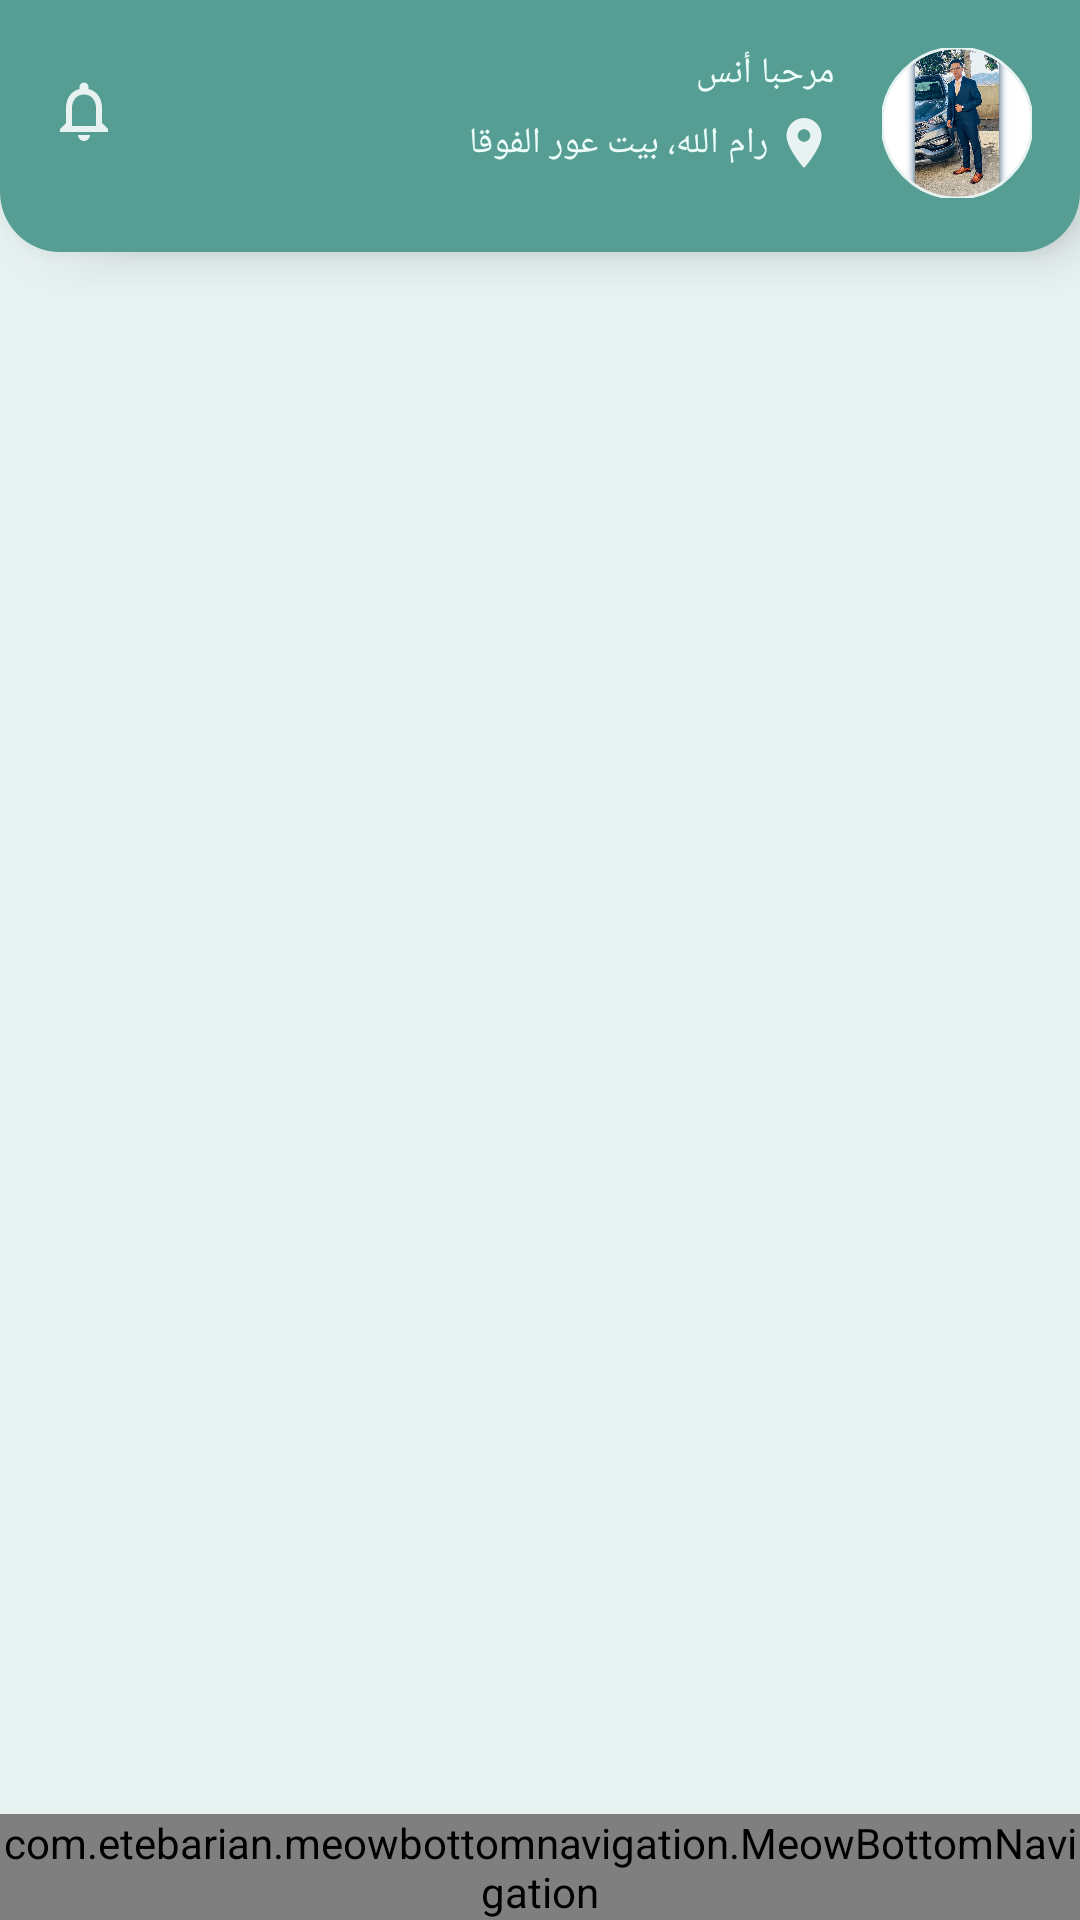

Named icons in this screenshot (1080*1920) and their centers, [x,y]:
location: [804,143]
notification: [84,111]
